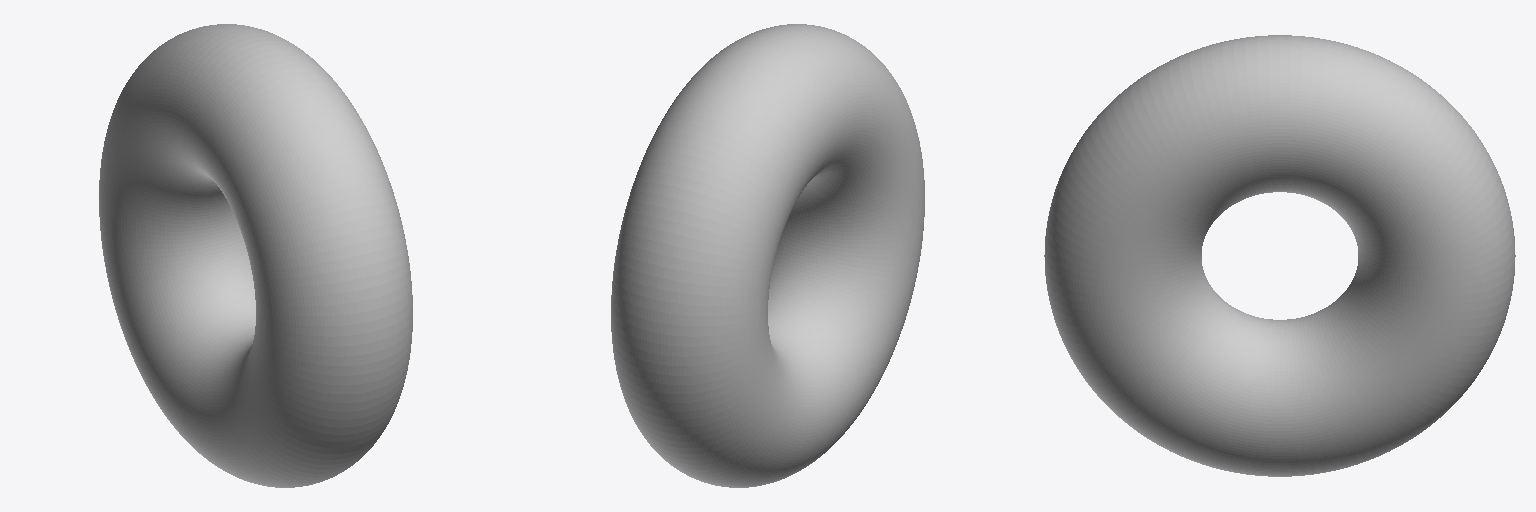
The model's file is smoothTorus.obj.
3 renders of one model, left to right at view 1: azimuth 30°, elevation 25°; view 2: azimuth 150°, elevation 25°; view 3: azimuth 270°, elevation 25°, orthographic.
Bounding box in the file's own units: 1 × 3 × 3.